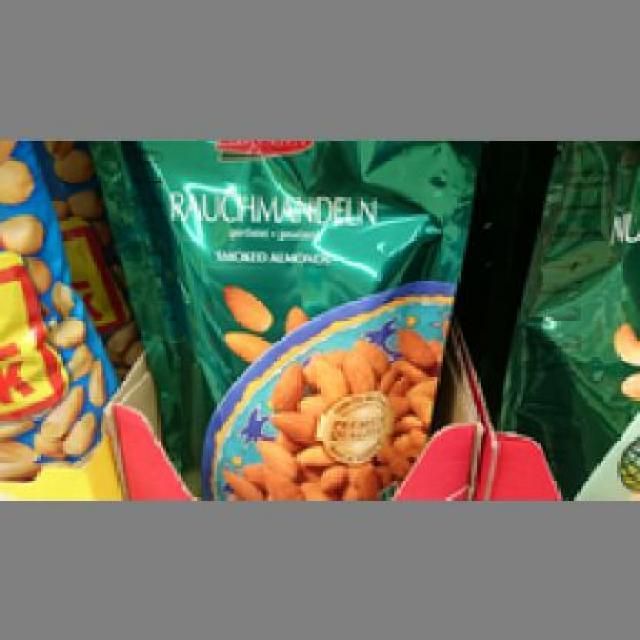Nuts: (80, 140, 480, 494)
